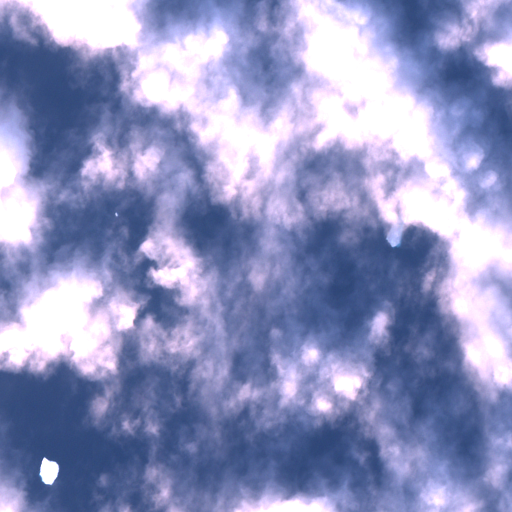Iceberg: (385, 215, 407, 247), (39, 457, 58, 485), (115, 212, 117, 216)
